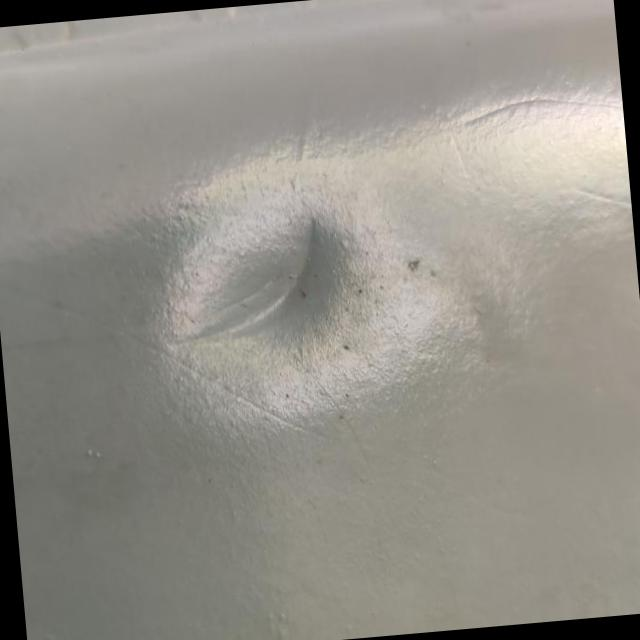Dent: (163, 194, 355, 350)
